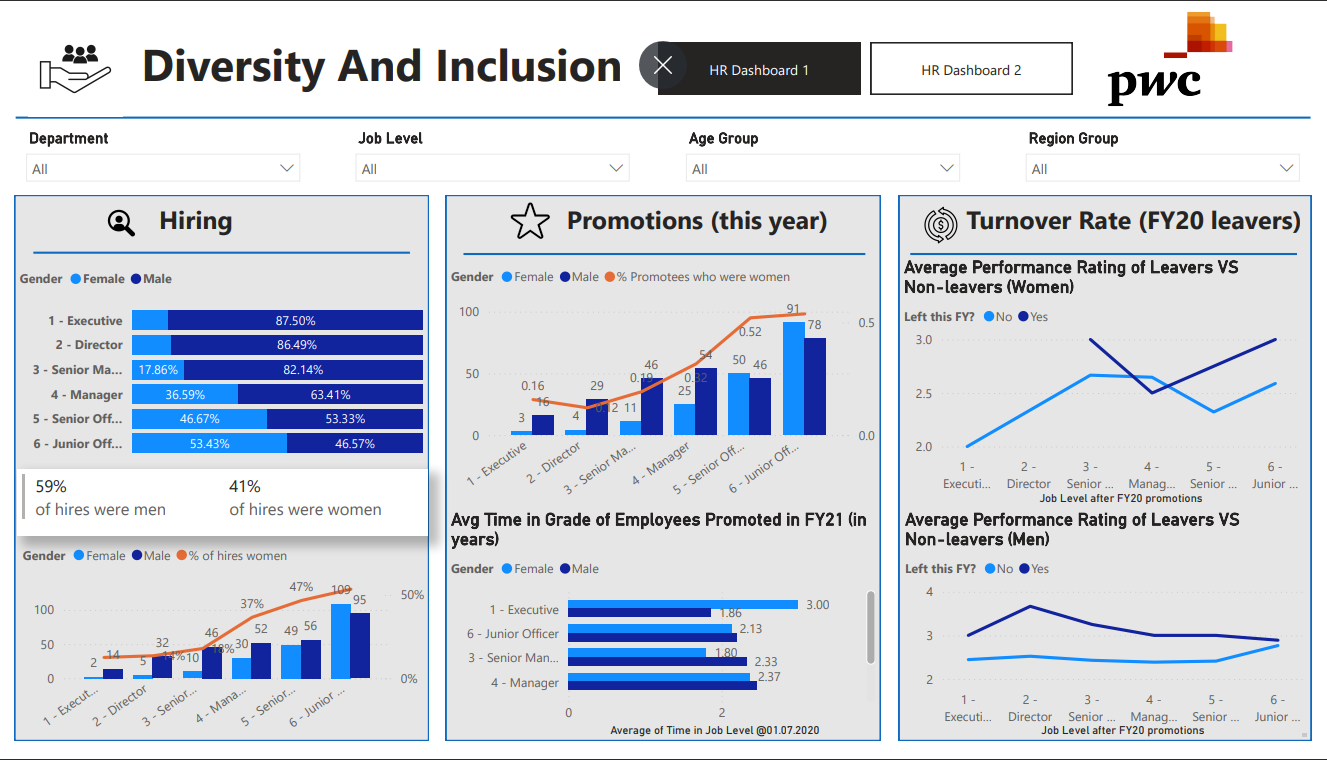

What the dashboard file says about the page in this screenshot:
{"tool":"powerbi","page":{"name":"HR Dashboard 1","canvas":[1280,720],"ordinal":0},"visuals":[{"type":"textbox","box":[132.7,21.4,485.2,79.9],"z":0},{"type":"shape","box":[16.9,101.3,1246.2,12.7],"z":1000},{"type":"image","box":[15.7,10,117,101.3],"z":2000},{"type":"image","box":[1039.5,0,177.3,101.8],"z":3000},{"type":"slicer","fields":{"Values":["Pharma Group AG.Department @01.07.2020"]},"box":[17.1,114.2,284,62.8],"z":4000},{"type":"slicer","fields":{"Values":["Pharma Group AG.Region group: nationality 1"]},"box":[978.9,114.2,284,62.8],"z":5000},{"type":"slicer","fields":{"Values":["Pharma Group AG.Age group"]},"box":[652.1,114.2,284,62.8],"z":6000},{"type":"slicer","fields":{"Values":["Pharma Group AG.Job Level after FY21 promotions"]},"box":[333.9,114.2,284,62.8],"z":7000},{"type":"shape","box":[16.1,182.3,398.7,525.6],"z":8000},{"type":"shape","box":[430.8,182.3,418.3,525.6],"z":9000},{"type":"shape","box":[867,182.3,396.9,525.6],"z":10000},{"type":"textbox","box":[119.9,184.1,141.3,47.1],"z":11000},{"type":"shape","box":[34.2,231.2,362.5,12.8],"z":12000},{"type":"textbox","box":[923.3,184.1,341,48.5],"z":14000},{"type":"shape","box":[448.1,232.6,386.7,11.4],"z":15000},{"type":"shape","box":[877.6,232.6,372.4,11.4],"z":16000},{"type":"textbox","box":[512.3,184.1,322.5,47.1],"z":17000},{"type":"hundredPercentStackedBarChart","title":"Gender","fields":{"Y":["CountNonNull(Pharma Group AG.Employee ID)"],"Series":["Pharma Group AG.Gender"],"Category":["Pharma Group AG.Job Level after FY20 promotions"]},"box":[16.3,243.2,398,202.4],"z":18000},{"type":"lineClusteredColumnComboChart","fields":{"Category":["Pharma Group AG.Job Level after FY20 promotions"],"Series":["Pharma Group AG.Gender"],"Y":["CountNonNull(Pharma Group AG.Employee ID)"],"Y2":["Pharma Group AG.% of hires women"]},"box":[19,509.4,396.7,198.3],"z":19000},{"type":"textbox","box":[1249.6,695.4,14.3,12.5],"z":20000},{"type":"lineClusteredColumnComboChart","fields":{"Series":["Pharma Group AG.Gender"],"Y":["CountNonNull(Pharma Group AG.Employee ID)"],"Y2":["Pharma Group AG.% Promotees who were women"],"Category":["Pharma Group AG.Job Level after FY21 promotions"]},"box":[430.8,241.3,418.3,243.1],"z":21000},{"type":"clusteredBarChart","title":"Avg Time in Grade of Employees Promoted in FY21 (in years)","fields":{"Series":["Pharma Group AG.Gender"],"Category":["Pharma Group AG.Job Level after FY20 promotions"],"Y":["Avg(Pharma Group AG.Time in Job Level @01.07.2020)"]},"box":[430.9,483.7,418.1,224],"z":22000},{"type":"lineChart","title":"Average Performance Rating of Leavers VS Non-leavers (Women)","fields":{"Category":["Pharma Group AG.Job Level after FY20 promotions"],"Y":["Avg(Pharma Group AG.FY19 Performance Rating)"],"Series":["Pharma Group AG.FY20 leaver?"]},"box":[867,241.3,395.1,243.1],"z":23000},{"type":"lineChart","title":"Average Performance Rating of Leavers VS Non-leavers (Men)","fields":{"Category":["Pharma Group AG.Job Level after FY20 promotions"],"Y":["Avg(Pharma Group AG.FY19 Performance Rating)"],"Series":["Pharma Group AG.FY20 leaver?"]},"box":[867.6,483.7,396.7,224],"z":24000},{"type":"multiRowCard","fields":{"Values":["Pharma Group AG.% of hires men","Pharma Group AG.% of hires women"]},"box":[19,445.6,395.3,63.8],"z":25000},{"type":"image","box":[97,186.9,44.2,45.7],"z":25001},{"type":"image","box":[482.3,175.5,59.9,62.8],"z":25002},{"type":"image","box":[877.6,179.8,58.5,61.4],"z":25003},{"type":"pageNavigator","box":[635.8,35.3,399.4,50.3],"z":25004}]}

Visuals, with their boxes in screenshot pixels (x1, y1, x2, y2), scaled from the page's 1280x720 canvas onto the 1327x760 screenshot:
textbox: region(138, 23, 641, 107)
shape: region(18, 107, 1309, 120)
image: region(16, 11, 138, 117)
image: region(1078, 0, 1261, 107)
slicer - Pharma Group AG.Department @01.07.2020: region(18, 121, 312, 187)
slicer - Pharma Group AG.Region group: nationality 1: region(1015, 121, 1309, 187)
slicer - Pharma Group AG.Age group: region(676, 121, 970, 187)
slicer - Pharma Group AG.Job Level after FY21 promotions: region(346, 121, 641, 187)
shape: region(17, 192, 430, 747)
shape: region(447, 192, 880, 747)
shape: region(899, 192, 1310, 747)
textbox: region(124, 194, 271, 244)
shape: region(35, 244, 411, 258)
textbox: region(957, 194, 1311, 246)
shape: region(465, 246, 865, 258)
shape: region(910, 246, 1296, 258)
textbox: region(531, 194, 865, 244)
"Gender" hundredPercentStackedBarChart: region(17, 257, 430, 470)
lineClusteredColumnComboChart - Pharma Group AG.Job Level after FY20 promotions x Pharma Group AG.Gender: region(20, 538, 431, 747)
textbox: region(1295, 734, 1310, 747)
lineClusteredColumnComboChart - Pharma Group AG.Gender x CountNonNull(Pharma Group AG.Employee ID): region(447, 255, 880, 511)
"Avg Time in Grade of Employees Promoted in FY21 (in years)" clusteredBarChart: region(447, 511, 880, 747)
"Average Performance Rating of Leavers VS Non-leavers (Women)" lineChart: region(899, 255, 1308, 511)
"Average Performance Rating of Leavers VS Non-leavers (Men)" lineChart: region(899, 511, 1311, 747)
multiRowCard - Pharma Group AG.% of hires men x Pharma Group AG.% of hires women: region(20, 470, 430, 538)
image: region(101, 197, 146, 246)
image: region(500, 185, 562, 252)
image: region(910, 190, 970, 255)
pageNavigator: region(659, 37, 1073, 90)
